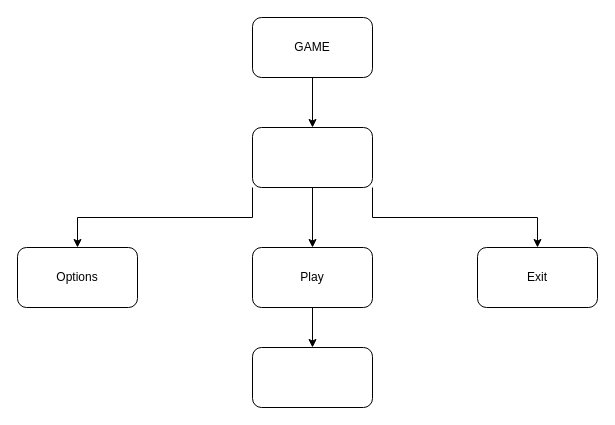
The diagram is 615 pixels wide and 425 high, and some of its shapes have lost their labels. Each missing label, with the centre of its shape:
"Levels" goes at (312,377).
"Main Menu" goes at (312,157).
